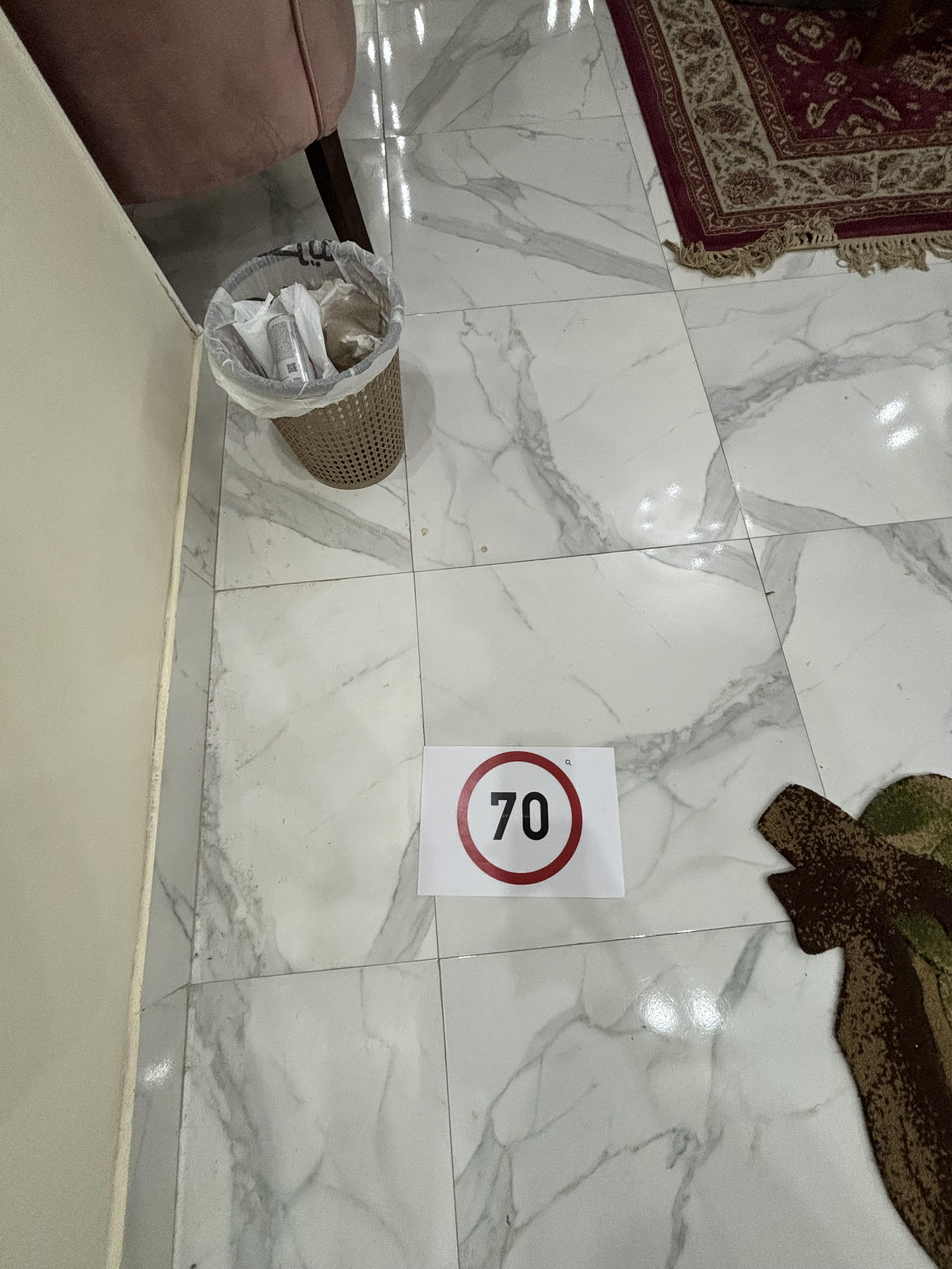70-Speed: (455, 748, 589, 890)
